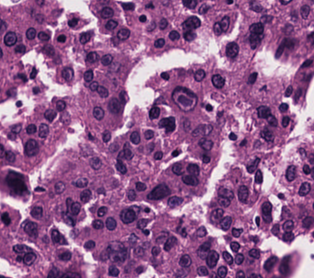nucleus: (172, 86, 196, 111), (6, 172, 27, 194), (147, 183, 169, 199), (182, 16, 200, 30), (158, 117, 174, 132), (192, 124, 212, 136), (120, 208, 135, 223), (25, 139, 38, 156), (261, 201, 271, 222), (23, 221, 37, 236), (51, 229, 65, 243), (108, 98, 121, 113), (275, 39, 285, 58), (226, 42, 238, 57), (247, 157, 259, 172), (218, 187, 233, 199), (238, 185, 248, 202), (260, 128, 273, 141), (249, 22, 263, 34), (249, 34, 261, 48), (212, 74, 224, 88), (211, 208, 223, 222), (164, 236, 176, 250), (182, 175, 198, 185), (100, 6, 113, 18), (4, 32, 16, 45), (61, 67, 73, 80), (257, 106, 270, 118), (199, 138, 212, 150), (220, 216, 231, 230), (167, 196, 182, 206), (44, 109, 56, 121), (123, 143, 132, 159), (89, 157, 101, 169), (93, 106, 104, 119), (38, 123, 48, 137), (73, 177, 87, 187), (117, 28, 129, 39), (86, 52, 98, 63), (194, 69, 205, 81), (187, 163, 198, 175), (54, 181, 65, 193), (31, 206, 42, 218), (130, 131, 140, 144), (116, 160, 126, 173), (80, 189, 90, 202), (106, 217, 116, 230), (220, 16, 229, 30), (79, 32, 90, 43), (101, 54, 112, 65), (97, 86, 108, 97), (172, 163, 183, 174), (156, 232, 167, 243), (250, 1, 262, 11), (105, 20, 117, 30), (149, 106, 159, 118), (70, 202, 80, 214), (182, 0, 196, 8), (38, 31, 49, 41), (267, 115, 277, 126), (92, 219, 103, 229), (196, 226, 206, 237), (213, 22, 222, 34), (26, 27, 35, 39), (218, 197, 230, 206), (1, 212, 10, 224), (169, 30, 179, 40), (43, 45, 53, 55), (97, 206, 107, 216), (137, 219, 147, 229), (184, 31, 195, 40), (248, 72, 257, 83), (5, 151, 14, 162), (102, 130, 110, 142), (255, 170, 262, 183), (198, 4, 208, 13), (154, 38, 164, 47), (15, 44, 25, 53), (56, 100, 65, 110), (11, 124, 21, 133), (26, 124, 36, 133), (65, 216, 74, 226), (84, 240, 94, 249), (159, 18, 167, 29), (84, 70, 92, 81), (120, 91, 127, 103), (68, 18, 77, 27), (89, 81, 98, 90), (136, 182, 145, 191), (261, 15, 271, 23), (127, 189, 135, 199), (232, 228, 242, 236), (129, 234, 137, 244), (122, 2, 133, 9), (183, 118, 189, 130), (145, 130, 153, 139), (147, 143, 154, 153), (66, 197, 72, 208), (154, 151, 162, 159), (17, 74, 26, 81), (109, 144, 118, 151), (0, 20, 5, 32), (30, 68, 36, 78), (272, 224, 278, 234), (57, 35, 65, 42), (161, 72, 168, 79), (8, 132, 15, 139), (229, 132, 236, 139), (202, 155, 209, 162), (36, 14, 42, 22), (139, 15, 146, 21), (172, 150, 179, 156), (180, 228, 185, 236), (0, 144, 3, 157), (33, 87, 39, 93), (206, 104, 212, 110), (35, 187, 44, 191), (255, 216, 259, 225), (146, 3, 153, 8), (240, 140, 246, 145), (97, 188, 103, 193), (16, 101, 21, 106), (143, 229, 148, 234), (278, 194, 283, 198), (37, 1, 43, 4), (0, 49, 2, 57)
